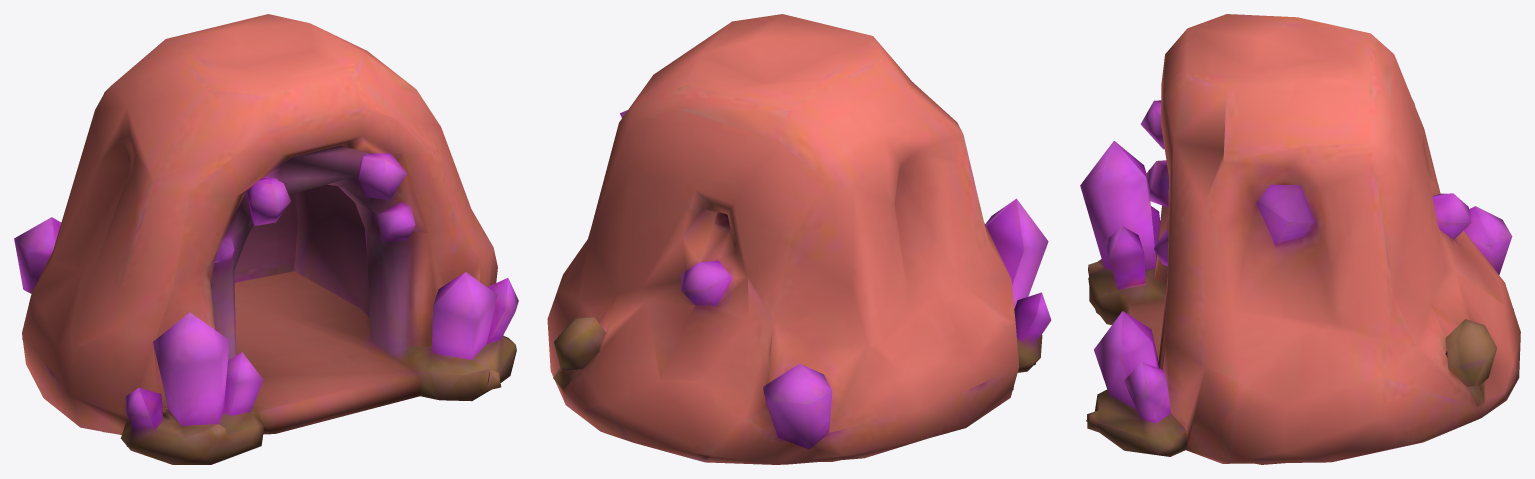
File: lg-crystal-cave-mouth.glb
3 views of the same model, side by side, from view 1: azimuth 30°, elevation 25°; view 2: azimuth 150°, elevation 25°; view 3: azimuth 270°, elevation 25° (orthographic).
Parts seen in each view (by area): view 1: geometry_0; view 2: geometry_0; view 3: geometry_0.
Boxes of the visible parts, x1,y1,x2,y2 form: geometry_0: [14, 14, 518, 464]; geometry_0: [547, 14, 1051, 464]; geometry_0: [1080, 14, 1520, 464].
Size of the model in its own units: 1 by 0.7122 by 0.8787.
Materials: 1 (1 with a texture image).
